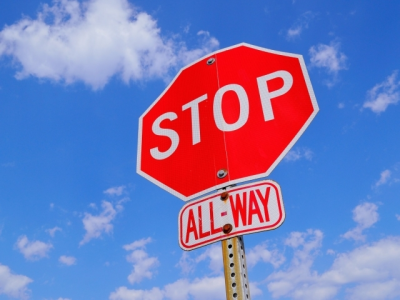stop: (145, 58, 303, 177)
